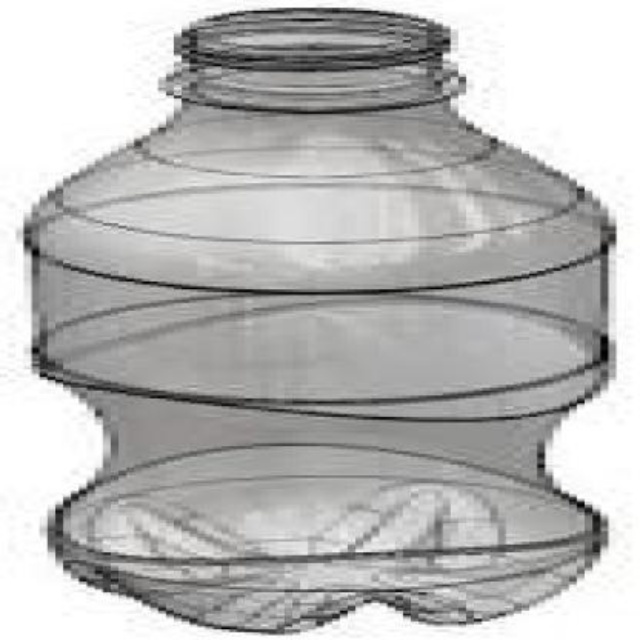trash: (25, 8, 614, 631)
